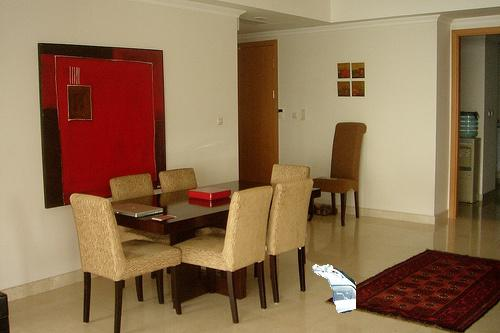tampered: (312, 265, 356, 313)
